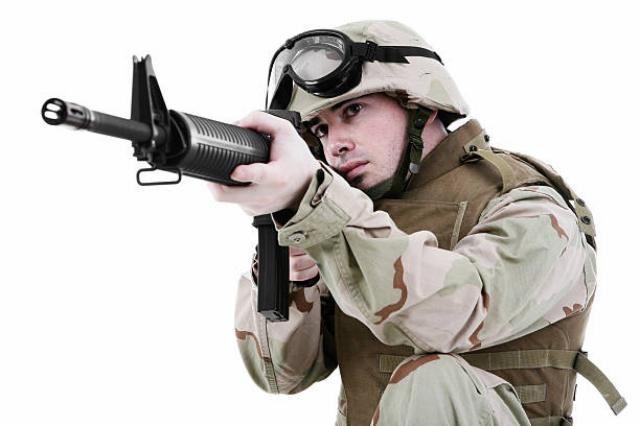other: (229, 22, 577, 424)
